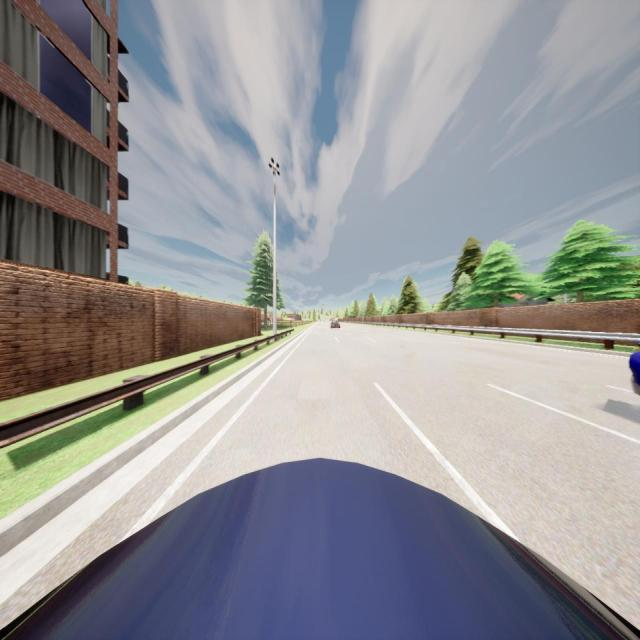Vehicle: (0, 454, 640, 640), (629, 349, 640, 386), (330, 320, 340, 329)
